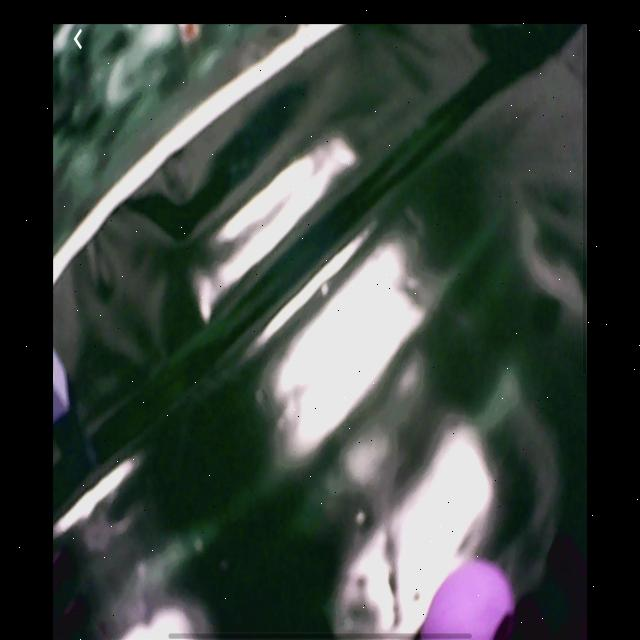ball: (424, 564, 519, 640)
